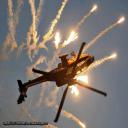helicopter: (17, 44, 109, 123)
